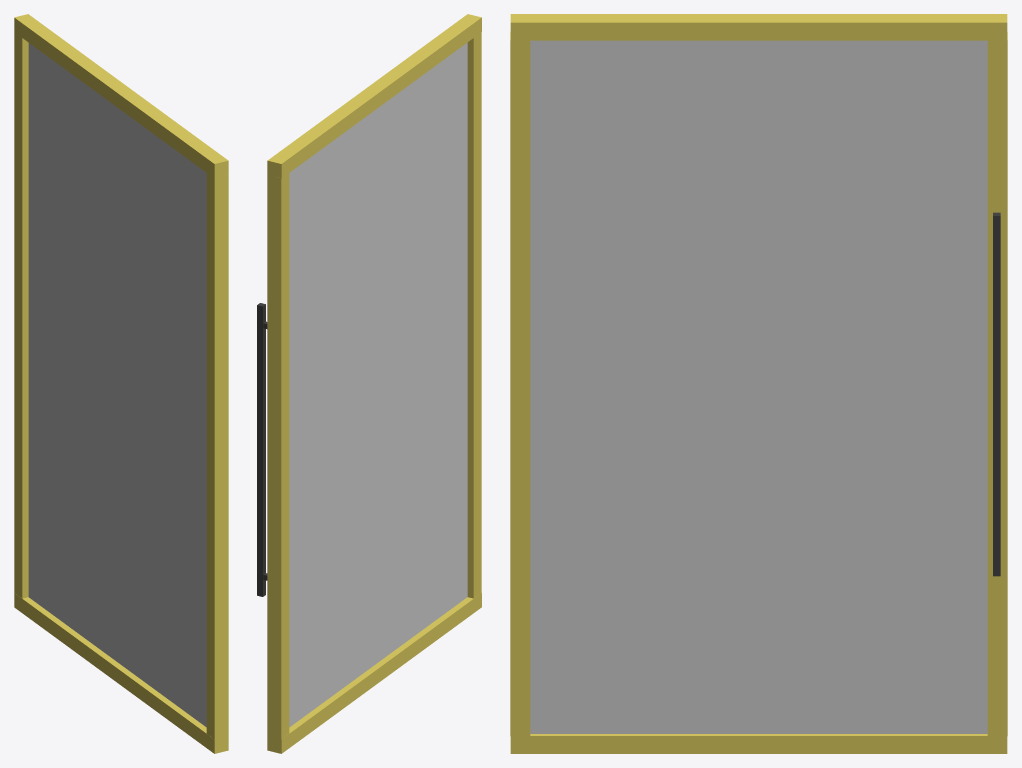
File: fridge-door.fbx
The picture shows the model from 3 angles, left to right: view 1: azimuth 30°, elevation 25°; view 2: azimuth 150°, elevation 25°; view 3: azimuth 270°, elevation 25°; orthographic projection. The views are drawn at different scales.
Visible parts, largest first — view 1: glass, edge4, edge2, edge3, edge1; view 2: glass, edge2, edge4, edge3, edge1, Cube; view 3: glass, edge4, edge3, edge2, edge1, Cube.
Boxes of the visible parts, x1,y1,x2,y2 form: glass: (28, 43, 206, 727); edge4: (206, 173, 228, 739); edge2: (14, 32, 28, 598); edge3: (14, 14, 228, 178); edge1: (14, 593, 228, 753); glass: (289, 42, 467, 727); edge2: (267, 173, 289, 739); edge4: (467, 32, 481, 598); edge3: (267, 14, 481, 178); edge1: (267, 593, 481, 753); Cube: (257, 303, 265, 596); glass: (530, 40, 987, 733); edge4: (510, 32, 530, 736); edge3: (510, 14, 1007, 40); edge2: (987, 32, 1007, 736); edge1: (510, 734, 1007, 753); Cube: (993, 212, 1000, 576).
Size of the model in its own units: 19.57 by 406 by 250.
